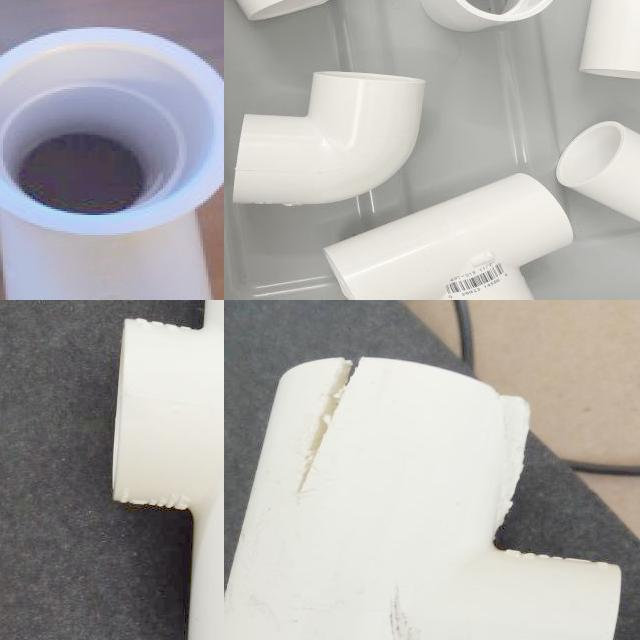Defective: (299, 359, 387, 498), (298, 360, 359, 499), (488, 394, 531, 536)
L Joint: (231, 71, 428, 209)
T Joint: (224, 356, 623, 640), (111, 300, 224, 640), (322, 164, 574, 300)
